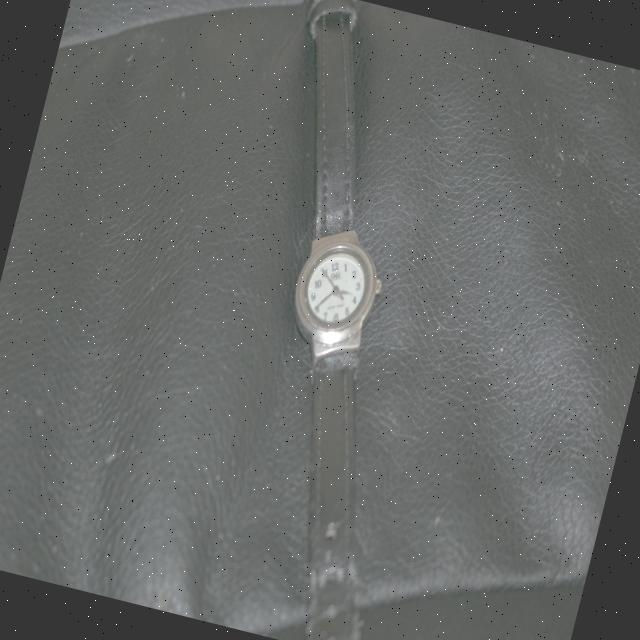Wrist watch: (154, 0, 512, 640)
